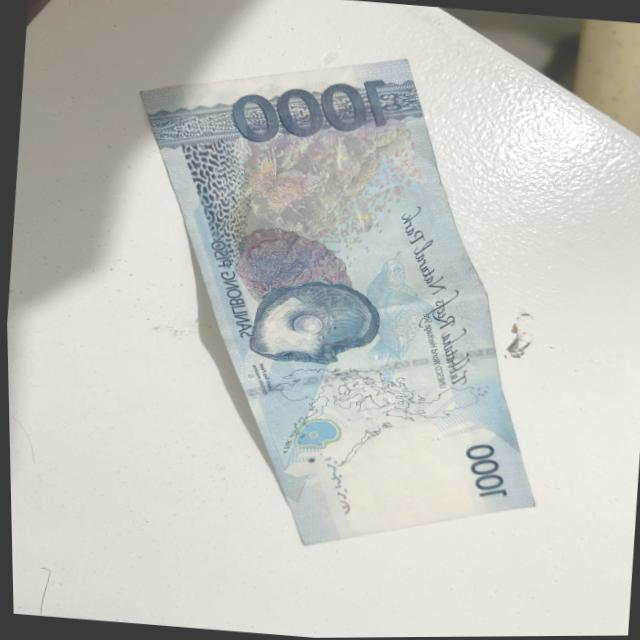1000_pearl: (244, 273, 376, 372)
1000_pearl_watermark: (282, 415, 348, 455)
